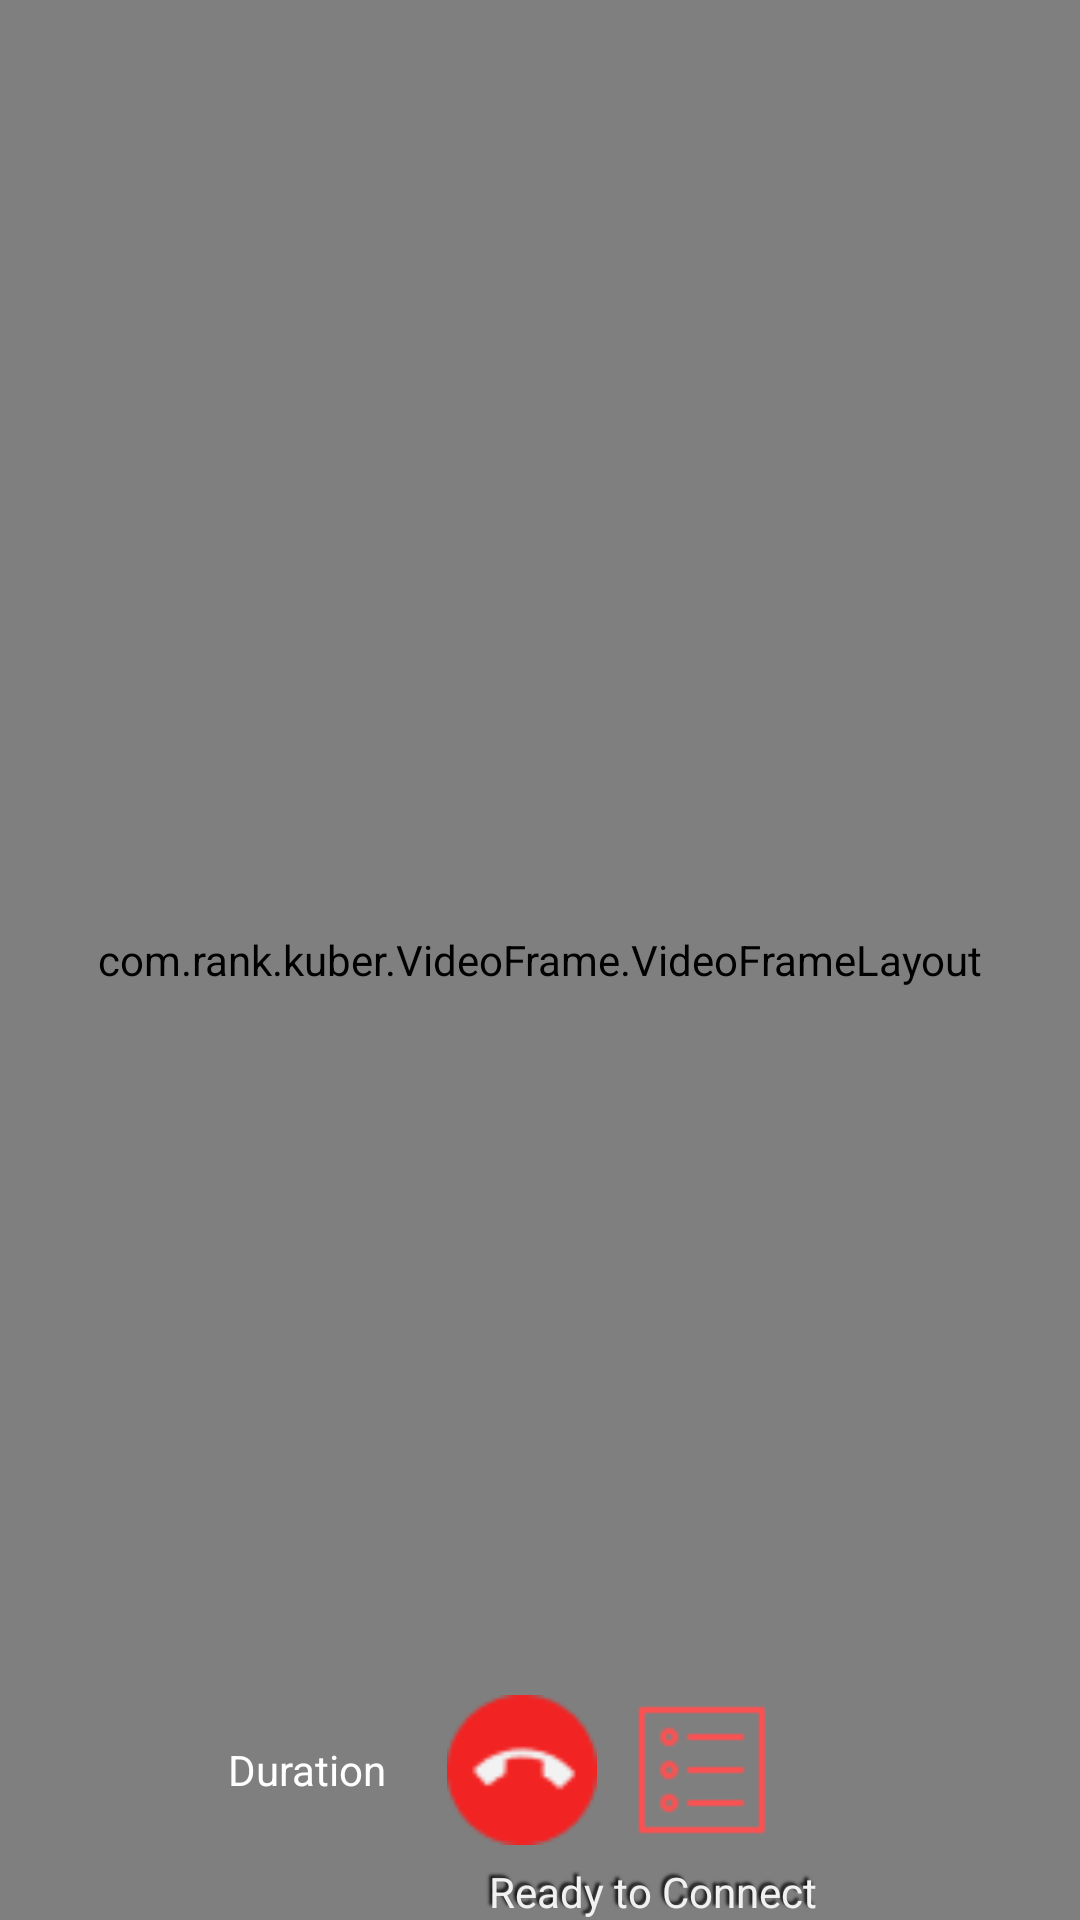

Icons on this 1080 × 1920 Android screen, each with its box as (x1, y1, x2, y2):
call end: (447, 1695, 597, 1845)
